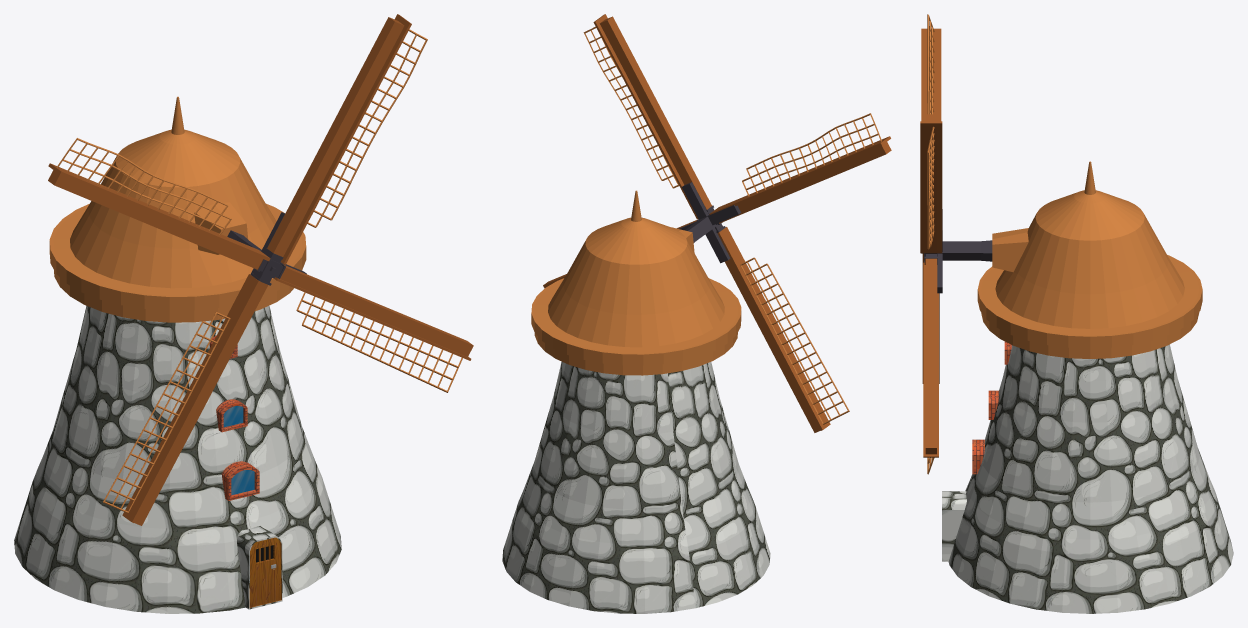
File: Moinho.fbx
3 views of the same model, side by side, from view 1: azimuth 30°, elevation 25°; view 2: azimuth 150°, elevation 25°; view 3: azimuth 270°, elevation 25° (orthographic). The views are drawn at different scales.
Parts seen in each view (by area): view 1: Plane.017, Cube; view 2: Plane.017, Cube; view 3: Plane.017, Cube.
Part boxes in pixels (x1,y1,x2,y2): Plane.017: (14, 96, 341, 613); Cube: (48, 14, 473, 525); Plane.017: (502, 190, 770, 613); Cube: (543, 14, 891, 432); Plane.017: (942, 161, 1233, 613); Cube: (920, 14, 992, 474).
Bounding box in the file's own units: 3048 × 3900 × 2256.
